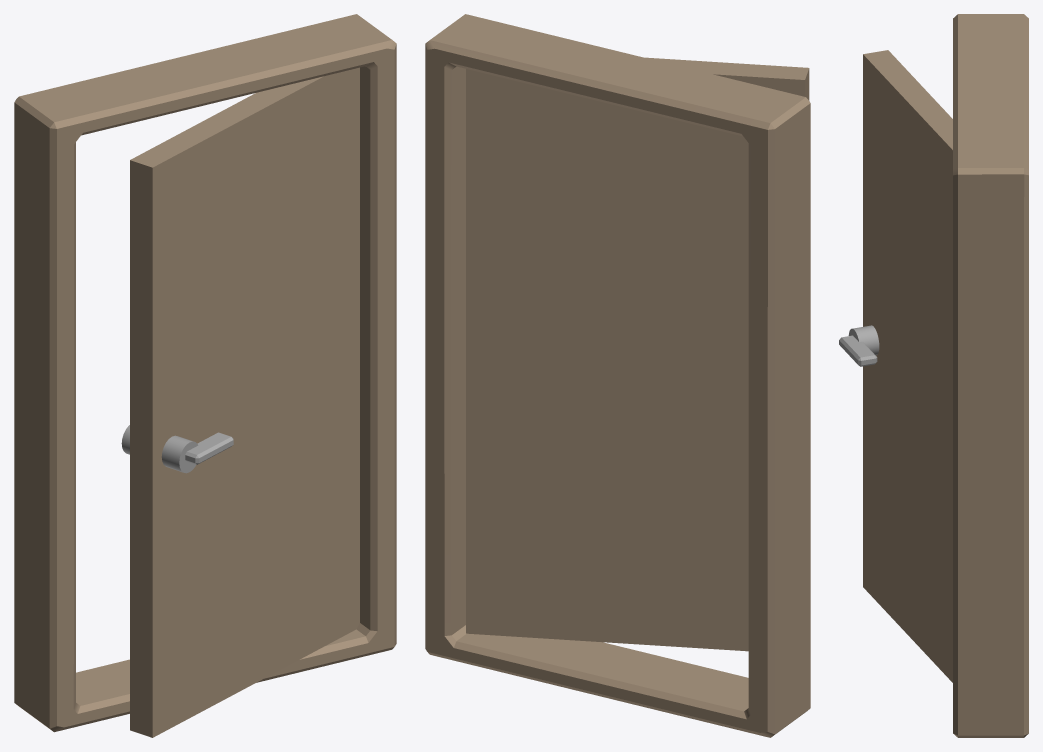
Rendered from door_fbx_colored.fbx.
The picture shows the model from 3 angles, left to right: view 1: azimuth 30°, elevation 25°; view 2: azimuth 150°, elevation 25°; view 3: azimuth 270°, elevation 25°; orthographic projection. The views are drawn at different scales.
Visible parts, largest first — view 1: pCube3, polySurface2, pCylinder1, pCube4; view 2: pCube3, polySurface2; view 3: polySurface2, pCube3, pCube4, pCylinder1.
Boxes of the visible parts, <box> form: pCube3: <box>130,67,359,737</box>; polySurface2: <box>14,14,396,732</box>; pCylinder1: <box>121,425,198,473</box>; pCube4: <box>185,432,233,464</box>; pCube3: <box>466,57,809,651</box>; polySurface2: <box>425,14,810,737</box>; polySurface2: <box>953,14,1028,737</box>; pCube3: <box>863,50,952,682</box>; pCube4: <box>839,335,877,366</box>; pCylinder1: <box>848,325,879,355</box>.
Bounding box in the file's own units: 1.61 × 2.71 × 0.8185.
